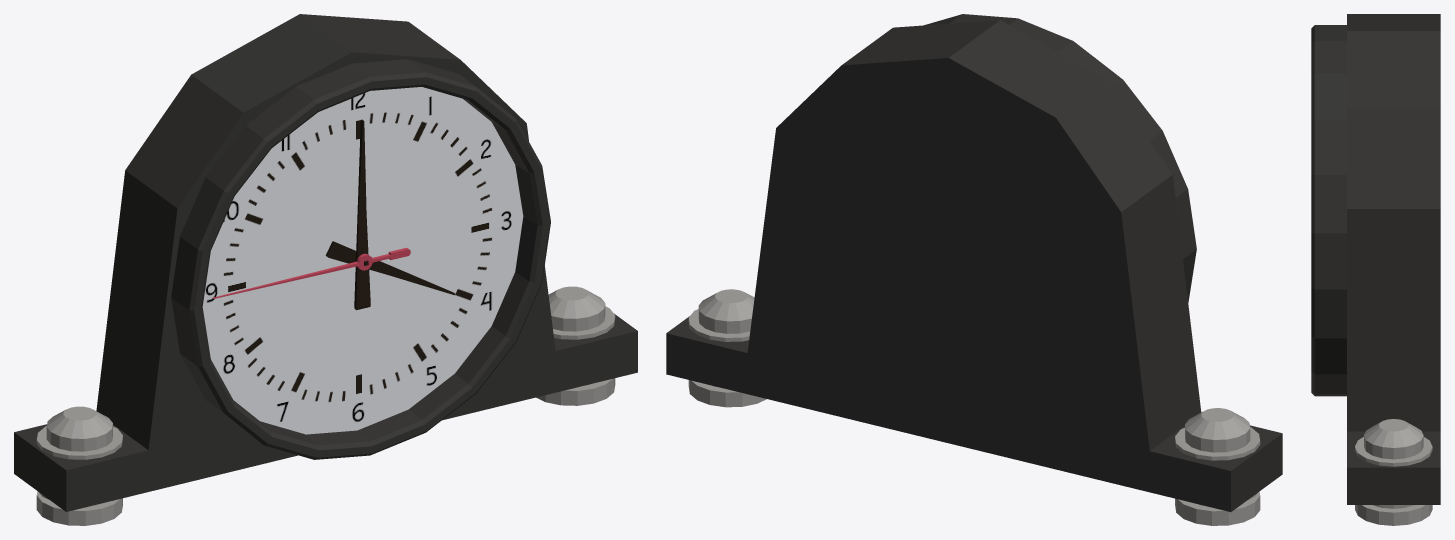
Rendered from Textured Alarm Clock.fbx.
3 renders of one model, left to right at view 1: azimuth 30°, elevation 25°; view 2: azimuth 150°, elevation 25°; view 3: azimuth 270°, elevation 25°, orthographic. The views are drawn at different scales.
Parts seen in each view (by area): view 1: Analog_Alarm_Clock:Analog_Clock_2, Analog_Alarm_Clock:b, Analog_Alarm_Clock:a, Analog_Alarm_Clock:c; view 2: Analog_Alarm_Clock:Analog_Clock_2; view 3: Analog_Alarm_Clock:Analog_Clock_2.
Boxes of the visible parts, left/top/right/bottom form: Analog_Alarm_Clock:Analog_Clock_2: left=14, top=14, right=637, bottom=525; Analog_Alarm_Clock:b: left=354, top=119, right=370, bottom=310; Analog_Alarm_Clock:a: left=325, top=241, right=454, bottom=295; Analog_Alarm_Clock:c: left=212, top=247, right=410, bottom=298; Analog_Alarm_Clock:Analog_Clock_2: left=666, top=14, right=1282, bottom=525; Analog_Alarm_Clock:Analog_Clock_2: left=1311, top=14, right=1440, bottom=525.
Size of the model in its own units: 1579 by 1095 by 345.
